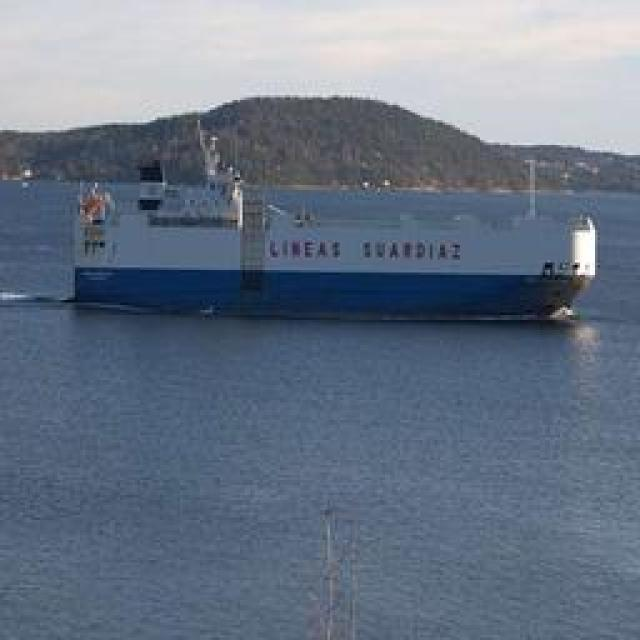CIV_Ship: (71, 166, 599, 326)
